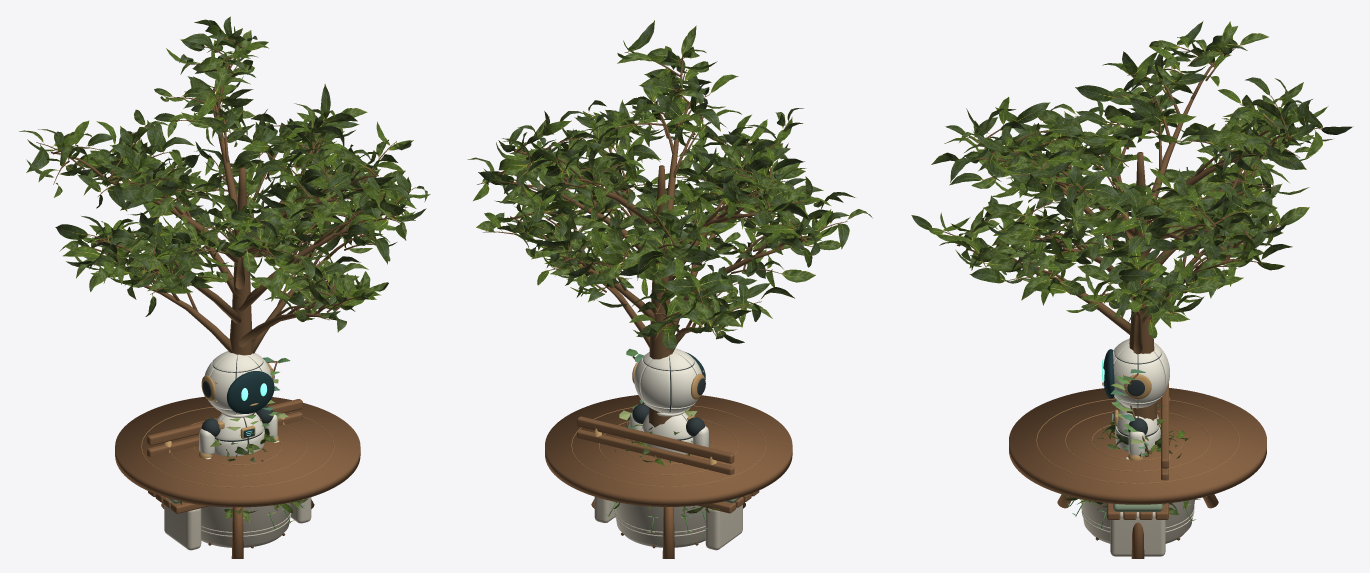
File: hero-kit-v3b.glb
The picture shows the model from 3 angles, left to right: view 1: azimuth 30°, elevation 25°; view 2: azimuth 150°, elevation 25°; view 3: azimuth 270°, elevation 25°; orthographic projection. The views are drawn at different scales.
Visible parts, largest first — view 1: canopy • curled atlas leaves, table_Timber • oiled walnut, canopy • hierarchical woody structure, planter_Stone • warm travertine, bench_Timber • oiled walnut, Head_Ceramic • warm ivory, bench_Stone • warm travertine, Head_Faceplate • deep teal glass, robot_Ceramic • warm ivory, table_Timber • lighter grain, shrub • curled atlas leaves; view 2: canopy • curled atlas leaves, table_Timber • oiled walnut, canopy • hierarchical woody structure, bench_Timber • oiled walnut, Head_Ceramic • warm ivory, planter_Stone • warm travertine, bench_Stone • warm travertine, robot_Ceramic • warm ivory, table_Timber • lighter grain; view 3: canopy • curled atlas leaves, table_Timber • oiled walnut, canopy • hierarchical woody structure, Head_Ceramic • warm ivory, bench_Stone • warm travertine, planter_Stone • warm travertine, bench_Timber • oiled walnut, table_Timber • lighter grain, shrub • curled atlas leaves, robot_Ceramic • warm ivory.
Boxes of the visible parts, x1,y1,x2,y2 form: canopy • curled atlas leaves: (19,16,430,332); table_Timber • oiled walnut: (115,396,360,558); canopy • hierarchical woody structure: (36,39,415,548); planter_Stone • warm travertine: (201,503,291,547); bench_Timber • oiled walnut: (147,399,302,513); Head_Ceramic • warm ivory: (204,351,271,414); bench_Stone • warm travertine: (164,497,311,550); Head_Faceplate • deep teal glass: (226,371,274,413); robot_Ceramic • warm ivory: (214,412,264,456); table_Timber • lighter grain: (141,407,334,487); shrub • curled atlas leaves: (180,418,308,523); canopy • curled atlas leaves: (467,20,872,349); table_Timber • oiled walnut: (545,395,792,558); canopy • hierarchical woody structure: (477,52,847,548); bench_Timber • oiled walnut: (577,416,759,513); Head_Ceramic • warm ivory: (634,348,701,413); planter_Stone • warm travertine: (614,502,705,547); bench_Stone • warm travertine: (594,497,742,550); robot_Ceramic • warm ivory: (641,410,692,454); table_Timber • lighter grain: (571,405,766,486); canopy • curled atlas leaves: (911,21,1353,338); table_Timber • oiled walnut: (1009,388,1266,558); canopy • hierarchical woody structure: (941,45,1322,540); Head_Ceramic • warm ivory: (1113,338,1169,408); bench_Stone • warm travertine: (1110,512,1165,556); planter_Stone • warm travertine: (1081,499,1194,543); bench_Timber • oiled walnut: (1107,383,1168,519); table_Timber • lighter grain: (1036,398,1239,483); shrub • curled atlas leaves: (1062,405,1200,515); robot_Ceramic • warm ivory: (1115,402,1160,452).
Size of the model in its own units: 3.71 by 4.57 by 3.89.
20 materials, 1 textured.
